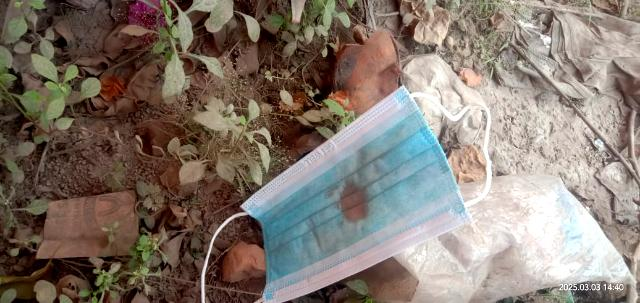mask: (194, 87, 493, 303)
